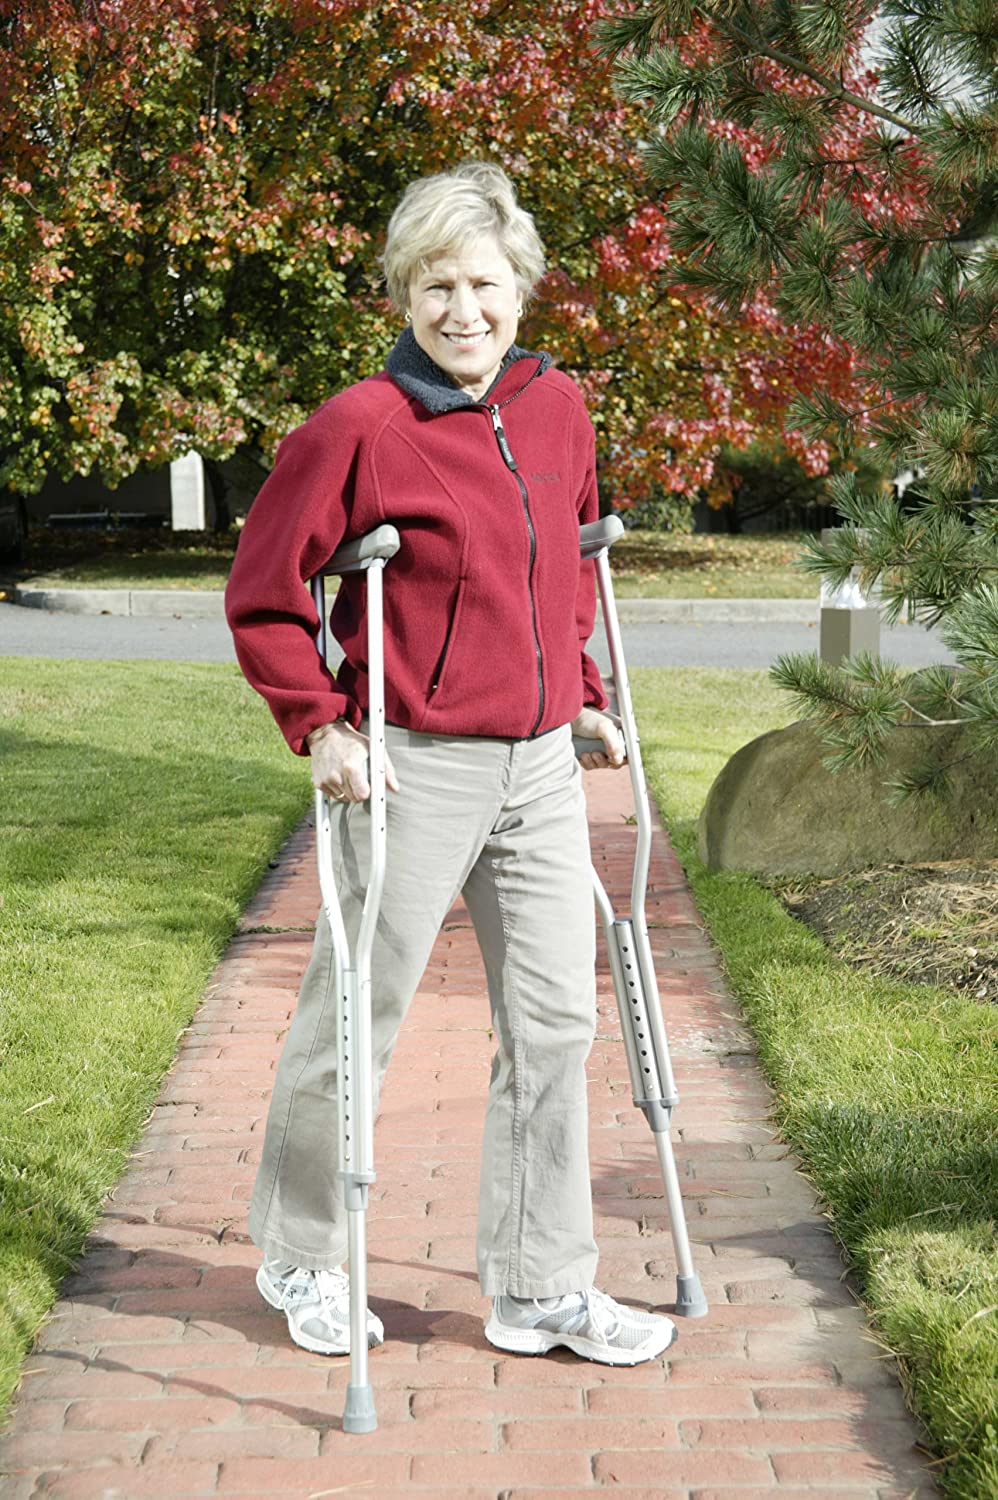crutches: (222, 161, 710, 1434)
